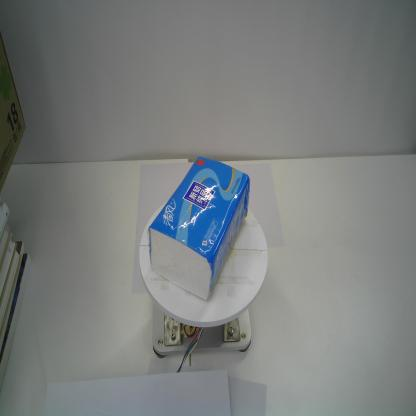Tissue: (147, 155, 250, 301)
